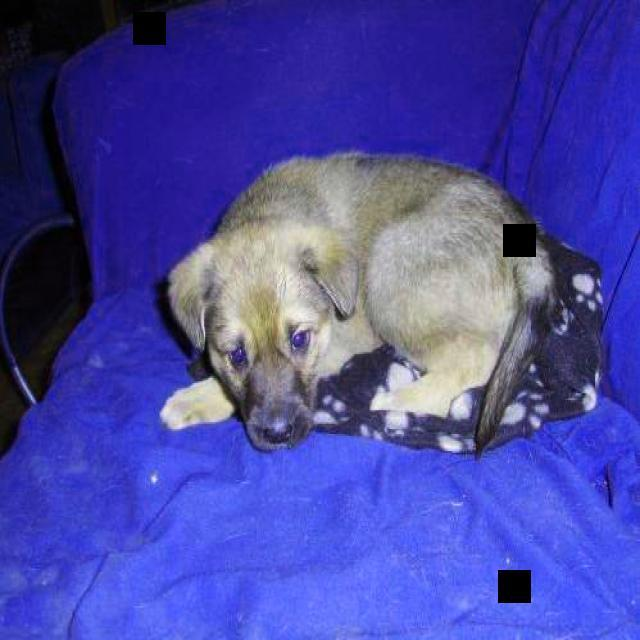puppy-dog: (158, 148, 552, 465)
